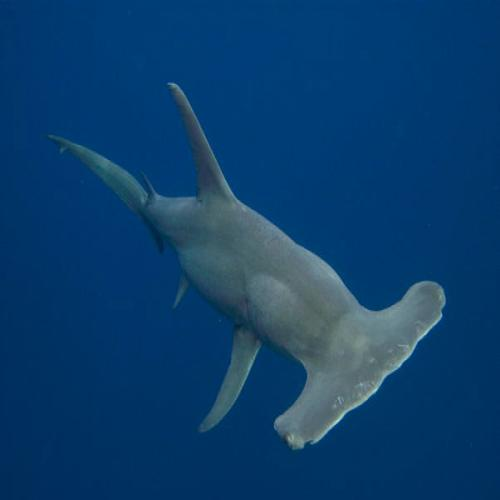shark-endangered: (48, 78, 446, 453)
